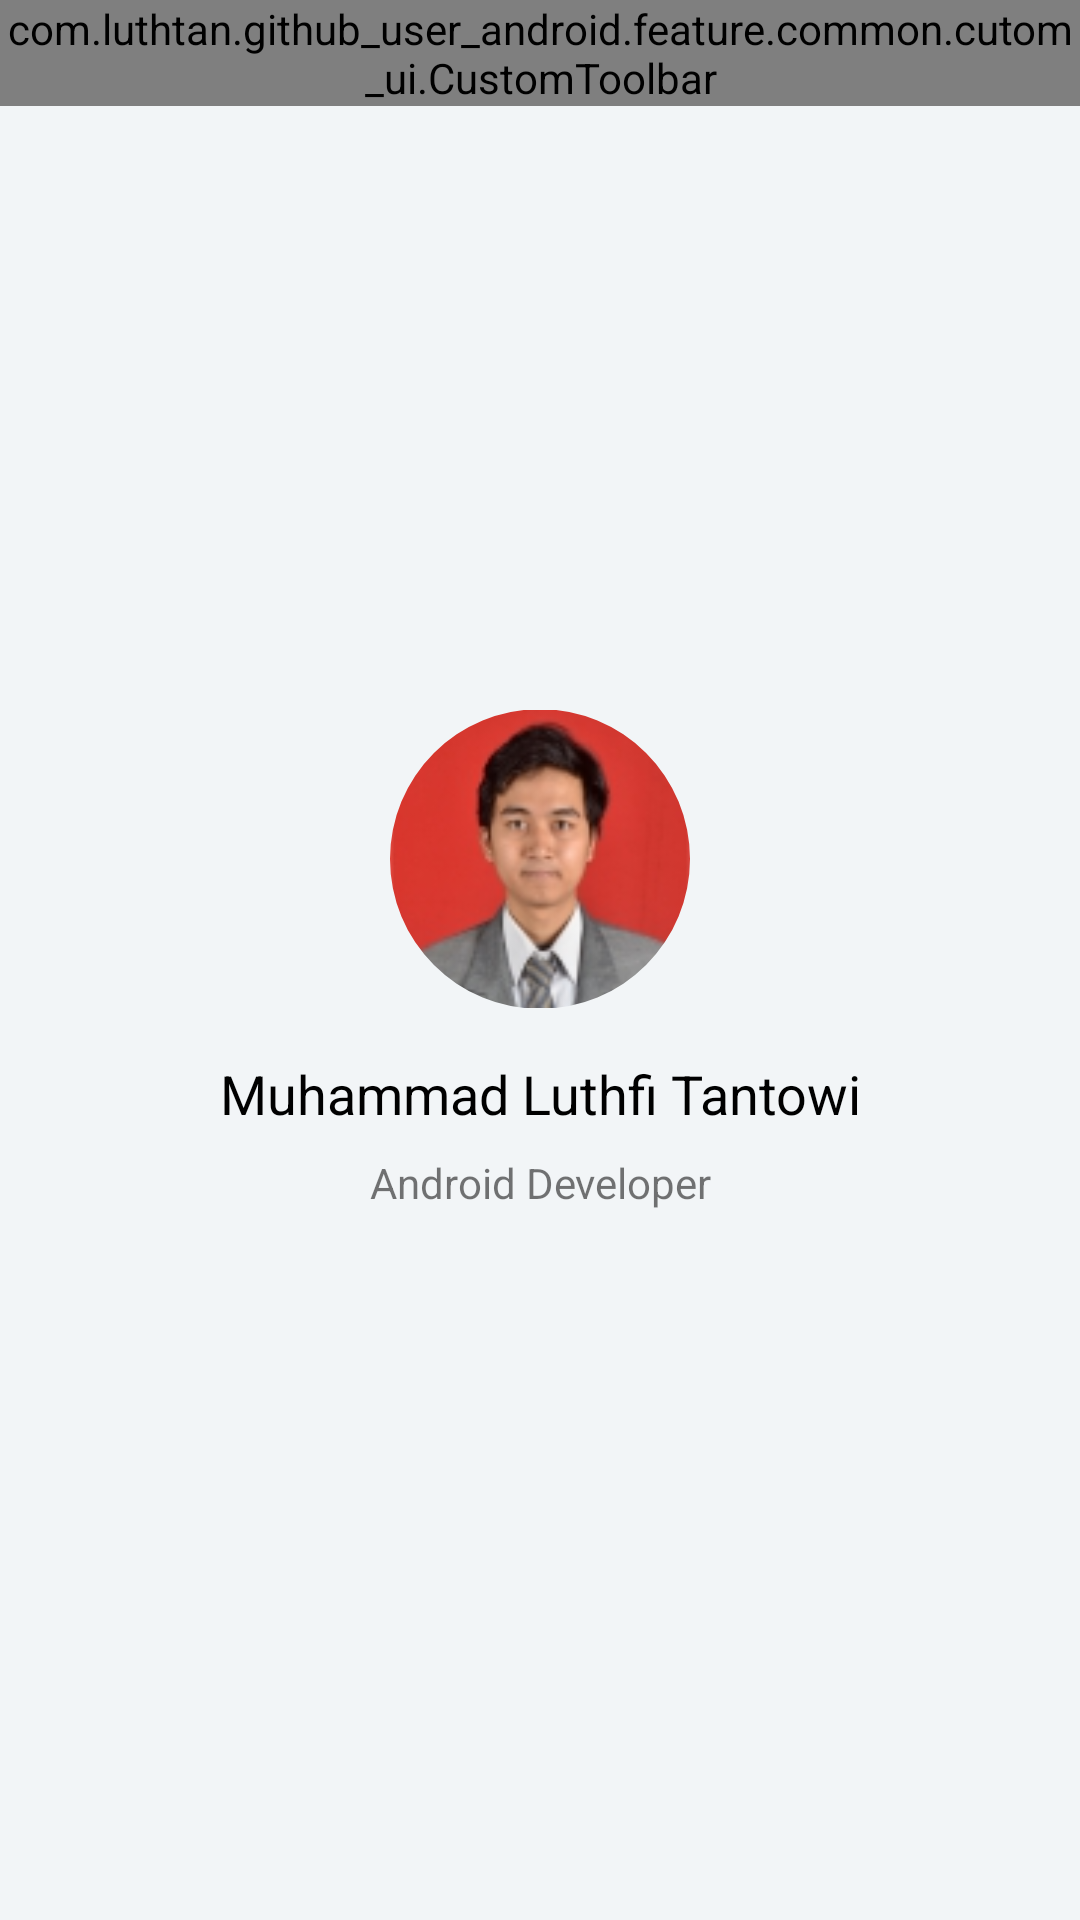

Named icons in this screenshot (1080 x 1920) and their centers, [x,y]:
user photo: [540,859]
